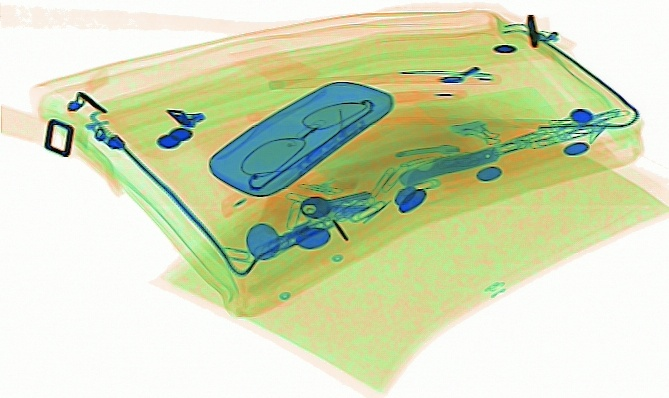knife: (395, 145, 500, 189)
